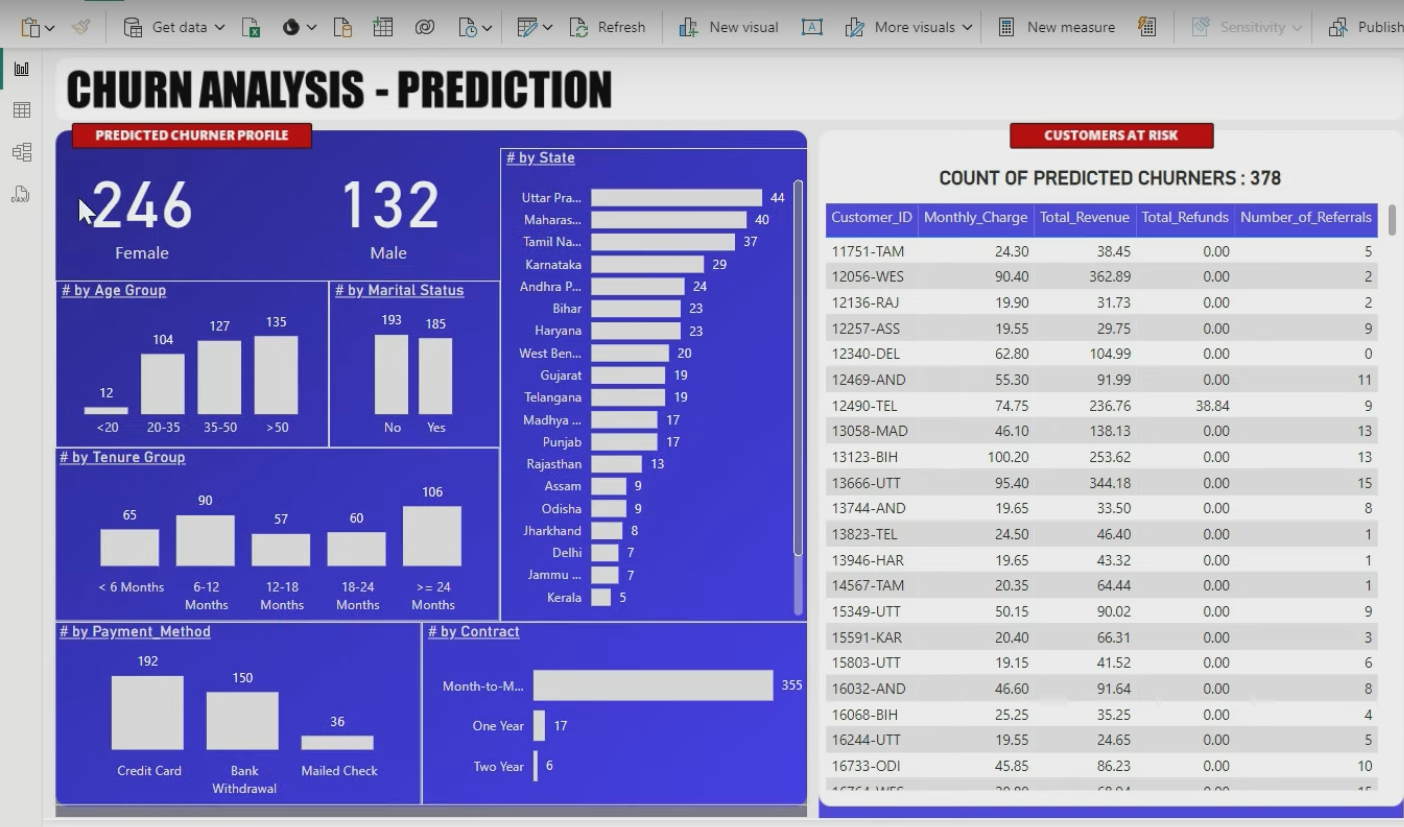

What the dashboard file says about the page in this screenshot:
{"tool":"powerbi","page":{"name":"Churn Prediction","canvas":[1280,720],"ordinal":2},"visuals":[{"type":"tableEx","fields":{"Values":["Predictions.Customer_ID","Sum(Predictions.Total_Revenue)","Sum(Predictions.Monthly_Charge)","Sum(Predictions.Total_Refunds)","Sum(Predictions.Number_of_Referrals)"]},"box":[720,144,528,560],"z":0},{"type":"card","fields":{"Values":["Measures_Table.Title Predicted Churner"]},"box":[800,96,384,48],"z":1000},{"type":"card","fields":{"Values":["Measures_Table.Count Predicted Churner"]},"box":[32,96,128,96],"z":2000},{"type":"card","fields":{"Values":["Measures_Table.Count Predicted Churner"]},"box":[320,80,128,112],"z":3000},{"type":"clusteredColumnChart","fields":{"Category":["Age Mapping.Age Group "],"Y":["CountNonNull(Predictions.Customer_ID)"]},"box":[32,208,208,176],"z":4000},{"type":"clusteredColumnChart","fields":{"Y":["CountNonNull(Predictions.Customer_ID)"],"Category":["Predictions.Married"]},"box":[256,208,192,176],"z":5000},{"type":"clusteredColumnChart","fields":{"Y":["CountNonNull(Predictions.Customer_ID)"],"Category":["Tenure Mapping.Tenure Groups"]},"box":[32,400,416,128],"z":6000},{"type":"clusteredColumnChart","fields":{"Y":["CountNonNull(Predictions.Customer_ID)"],"Category":["Predictions.Payment_Method"]},"box":[32,537,416,160],"z":7000},{"type":"barChart","fields":{"Category":["Predictions.Contract"],"Y":["CountNonNull(Predictions.Customer_ID)"]},"box":[464,537,240,160],"z":8000},{"type":"barChart","fields":{"Category":["Predictions.State"],"Y":["CountNonNull(Predictions.Customer_ID)"]},"box":[464,96,240,432],"z":9000},{"type":"image","box":[176,96,128,96],"z":9001}]}

Visuals, with their boxes on the page's 1280x720 design canvas (x1, y1, x2, y2). These are canvas units, not pixel positions in the 1404x827 screenshot, which may show the page scaled, cropped or inside an application window:
tableEx - Predictions.Customer_ID x Sum(Predictions.Total_Revenue): <bbox>720, 144, 1248, 704</bbox>
card - Measures_Table.Title Predicted Churner: <bbox>800, 96, 1184, 144</bbox>
card - Measures_Table.Count Predicted Churner: <bbox>32, 96, 160, 192</bbox>
card - Measures_Table.Count Predicted Churner: <bbox>320, 80, 448, 192</bbox>
clusteredColumnChart - Age Mapping.Age Group  x CountNonNull(Predictions.Customer_ID): <bbox>32, 208, 240, 384</bbox>
clusteredColumnChart - CountNonNull(Predictions.Customer_ID) x Predictions.Married: <bbox>256, 208, 448, 384</bbox>
clusteredColumnChart - CountNonNull(Predictions.Customer_ID) x Tenure Mapping.Tenure Groups: <bbox>32, 400, 448, 528</bbox>
clusteredColumnChart - CountNonNull(Predictions.Customer_ID) x Predictions.Payment_Method: <bbox>32, 537, 448, 697</bbox>
barChart - Predictions.Contract x CountNonNull(Predictions.Customer_ID): <bbox>464, 537, 704, 697</bbox>
barChart - Predictions.State x CountNonNull(Predictions.Customer_ID): <bbox>464, 96, 704, 528</bbox>
image: <bbox>176, 96, 304, 192</bbox>
